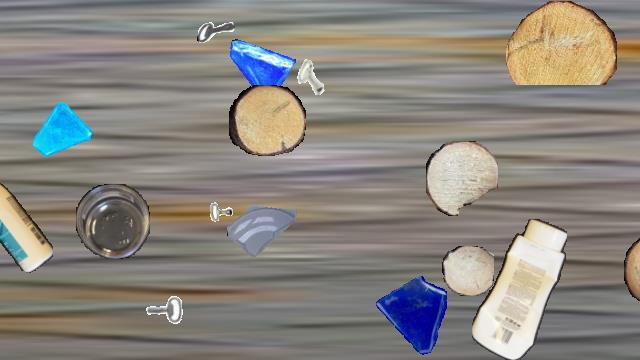glass: (372, 275, 456, 359), (227, 189, 299, 261), (226, 36, 296, 106), (33, 102, 91, 160)
metal: (286, 52, 338, 104), (135, 294, 185, 344), (194, 200, 242, 248), (197, 12, 235, 50)
plastic: (472, 219, 566, 359), (0, 169, 53, 273), (76, 184, 150, 258)
wood: (506, 1, 616, 85), (426, 141, 498, 215), (229, 85, 305, 155), (442, 246, 494, 296), (624, 233, 640, 305)
